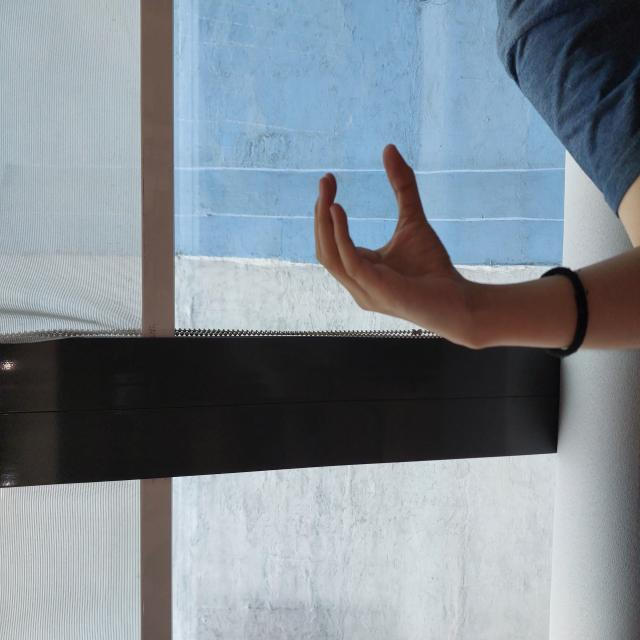C: (304, 313, 496, 465)
